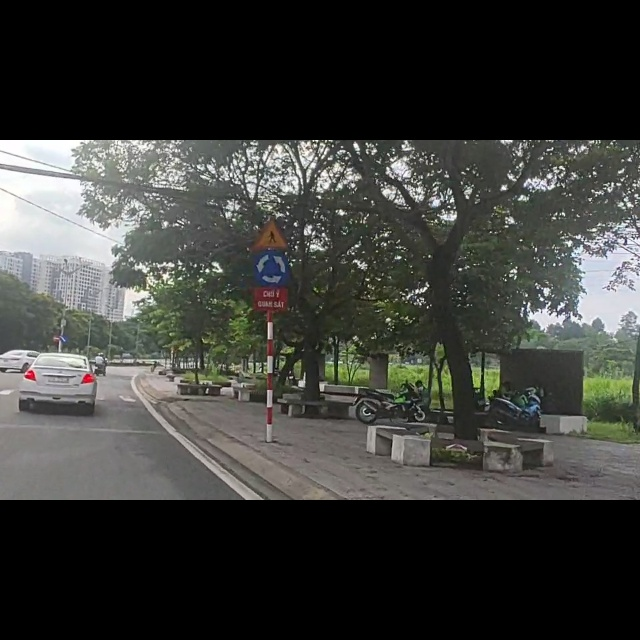bien_hieu_lenh: (253, 198, 293, 258), (253, 137, 291, 193), (61, 346, 69, 363), (53, 345, 60, 359)
